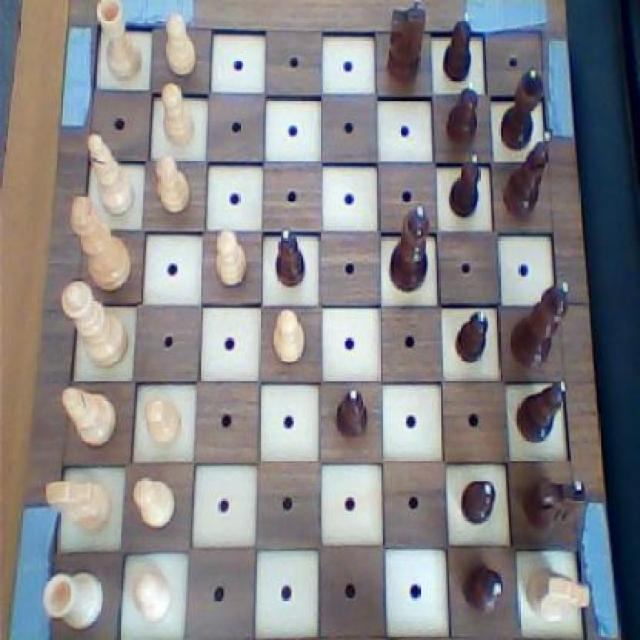bishop: (500, 128, 555, 222), (512, 375, 568, 444)
black-bishop: (508, 277, 574, 375)
black-king: (523, 474, 589, 538), (386, 0, 428, 85)
black-knight: (442, 78, 482, 152), (455, 562, 507, 618), (440, 6, 476, 86), (329, 384, 374, 446), (455, 472, 500, 531), (272, 222, 308, 288), (448, 148, 482, 216), (452, 308, 493, 364)
black-pawn: (385, 197, 433, 295)
black-queen: (500, 66, 549, 154)
black-rook: (84, 129, 138, 216), (57, 382, 121, 452)
white-bishop: (66, 192, 137, 298)
white-king: (40, 471, 115, 542), (524, 562, 594, 626)
white-knight: (157, 77, 198, 153), (266, 305, 313, 370), (208, 224, 252, 292), (152, 148, 194, 219), (162, 11, 202, 84), (137, 392, 184, 452), (129, 566, 174, 626), (131, 477, 179, 532)
white-pawn: (55, 276, 133, 372)
white-queen: (40, 566, 108, 634), (94, 0, 146, 85)
